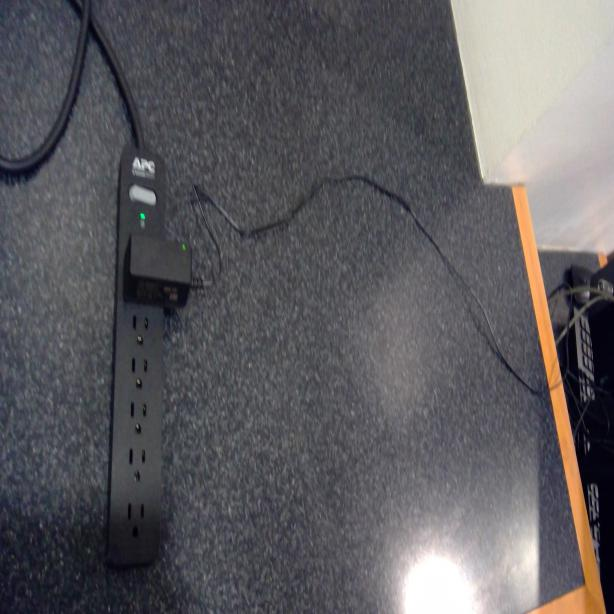typeb: (121, 496, 150, 540), (123, 443, 152, 486), (126, 311, 155, 348), (126, 396, 150, 437), (129, 354, 151, 389)
